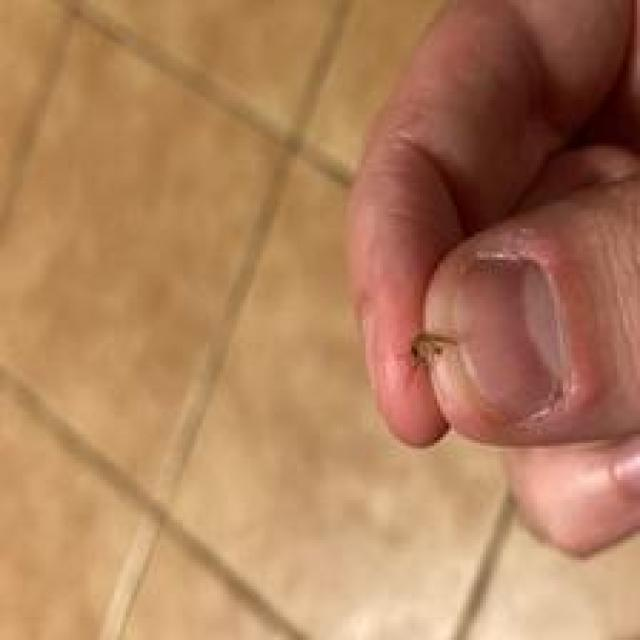Culex: (407, 330, 459, 370)
